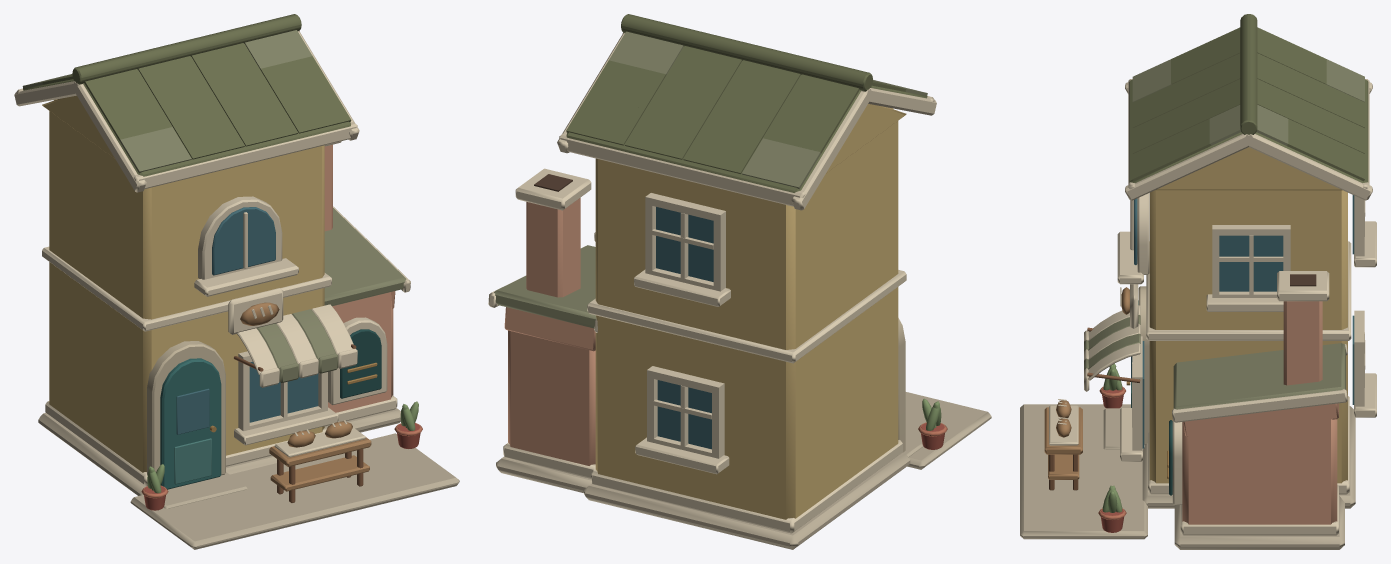
The model's file is bakery_level_3.glb.
3 views of the same model, side by side, from view 1: azimuth 30°, elevation 25°; view 2: azimuth 150°, elevation 25°; view 3: azimuth 270°, elevation 25° (orthographic). The views are drawn at different scales.
Parts seen in each view (by area): view 1: bakery_level_3_runtime; view 2: bakery_level_3_runtime; view 3: bakery_level_3_runtime.
Boxes of the visible parts, left/top/right/bottom form: bakery_level_3_runtime: left=14, top=14, right=459, bottom=549; bakery_level_3_runtime: left=488, top=14, right=991, bottom=549; bakery_level_3_runtime: left=1020, top=14, right=1376, bottom=549.
Bounding box in the file's own units: 4.04 × 5.17 × 4.21.
